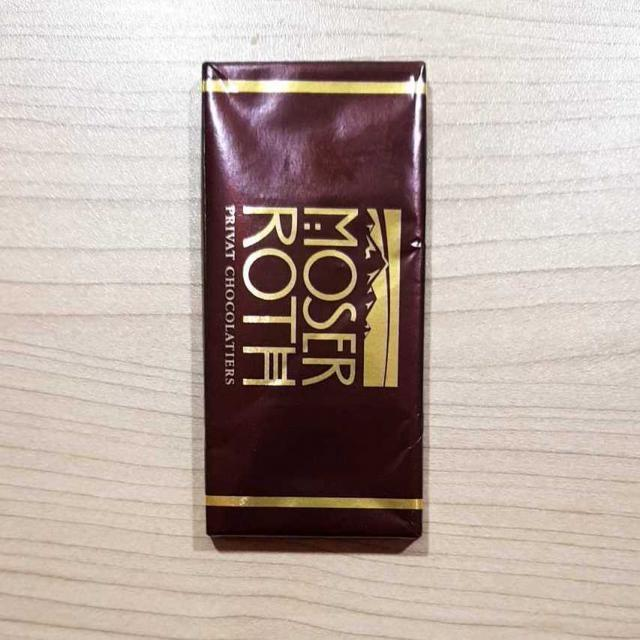chocolate: (202, 62, 431, 562), (200, 72, 430, 539)
